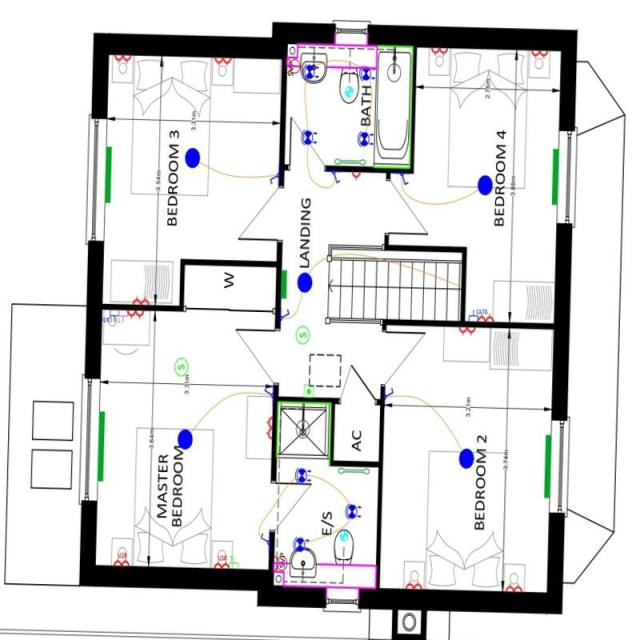Cat 6 Data Socket: (101, 308, 118, 322), (468, 309, 486, 320)
Ceiling Mounted Continuous Extract FanWith Boost Mode Activated By Light Switch: (338, 529, 348, 540), (344, 85, 353, 96)
Co-Ax TV Socket: (114, 308, 127, 322)
Double Socket: (264, 416, 273, 438), (214, 55, 232, 66), (131, 294, 149, 304), (430, 46, 448, 56), (530, 48, 548, 58), (126, 309, 144, 318), (458, 326, 475, 335), (404, 579, 421, 588), (504, 582, 522, 590), (114, 54, 131, 62), (478, 313, 493, 321)
Full Height Tiling: (372, 44, 410, 166), (276, 400, 329, 457)
Light Switch: (398, 172, 408, 184), (259, 531, 268, 543), (331, 170, 340, 182), (280, 309, 290, 319), (384, 387, 393, 398), (269, 173, 278, 183), (264, 386, 272, 396)
Low Energy Downlighter: (358, 64, 374, 81), (300, 128, 317, 144), (357, 130, 373, 147), (345, 502, 361, 518), (302, 62, 318, 78), (292, 536, 309, 551), (294, 467, 310, 482)
Low Energy Pendant Light: (177, 428, 192, 449), (185, 146, 199, 168), (477, 174, 492, 194), (297, 272, 312, 292), (458, 448, 473, 468)
Mains Wired Smoke Detector: (174, 357, 188, 375), (295, 325, 309, 343)
Programmable Room Thermostat: (303, 384, 314, 397)
Radiator: (96, 410, 104, 480), (542, 433, 550, 498), (549, 148, 558, 204), (105, 146, 110, 202), (280, 270, 286, 298)
Shaver Socket: (273, 554, 289, 570), (286, 58, 302, 73)
Single Socket: (351, 170, 360, 180)
Telephone Socket: (227, 555, 238, 568)
USB Double Socket: (112, 551, 130, 566), (214, 554, 228, 568)
